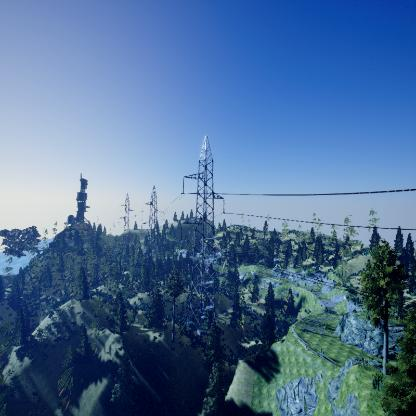tower: (176, 134, 233, 337)
